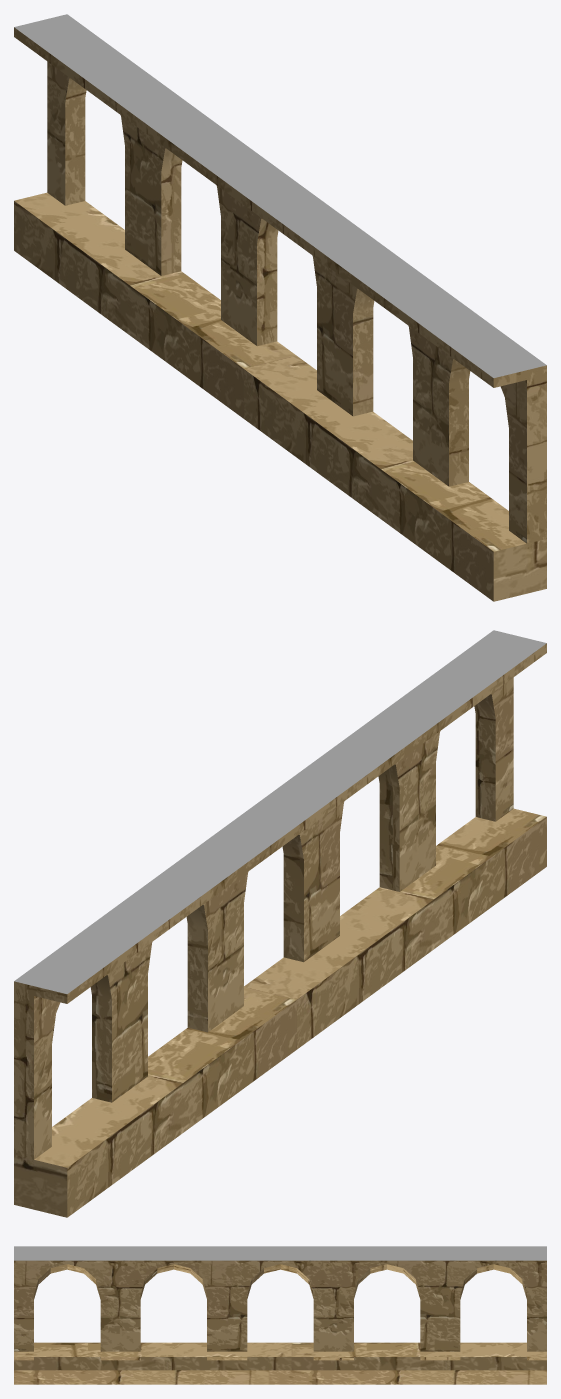
Rendered from corridor2.fbx.
3 views of the same model, one above another, from view 1: azimuth 30°, elevation 25°; view 2: azimuth 150°, elevation 25°; view 3: azimuth 270°, elevation 25° (orthographic). The views are drawn at different scales.
Parts seen in each view (by area): view 1: polySurface1962; view 2: polySurface1962; view 3: polySurface1962.
Part boxes in pixels (<box>): polySurface1962: <box>14,14,546,601</box>; polySurface1962: <box>14,630,546,1217</box>; polySurface1962: <box>14,1246,546,1384</box>.
Bounding box in the file's own units: 37.92 × 152 × 591.
